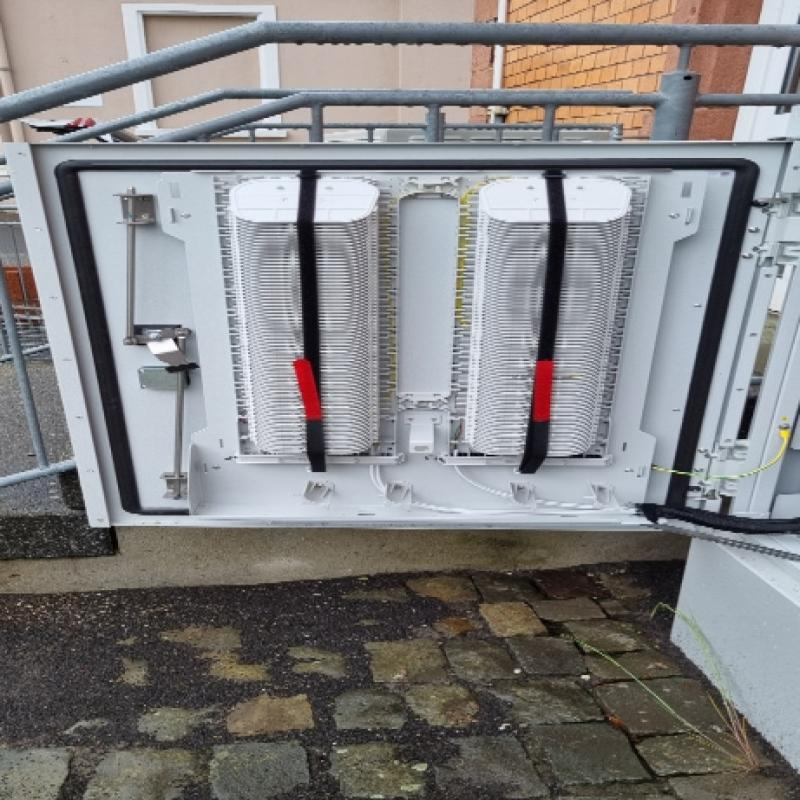NT-Gehause: (7, 117, 794, 762)
Spleiskassetten: (202, 172, 414, 466), (455, 175, 652, 468)
